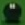black: (0, 0, 25, 25)
